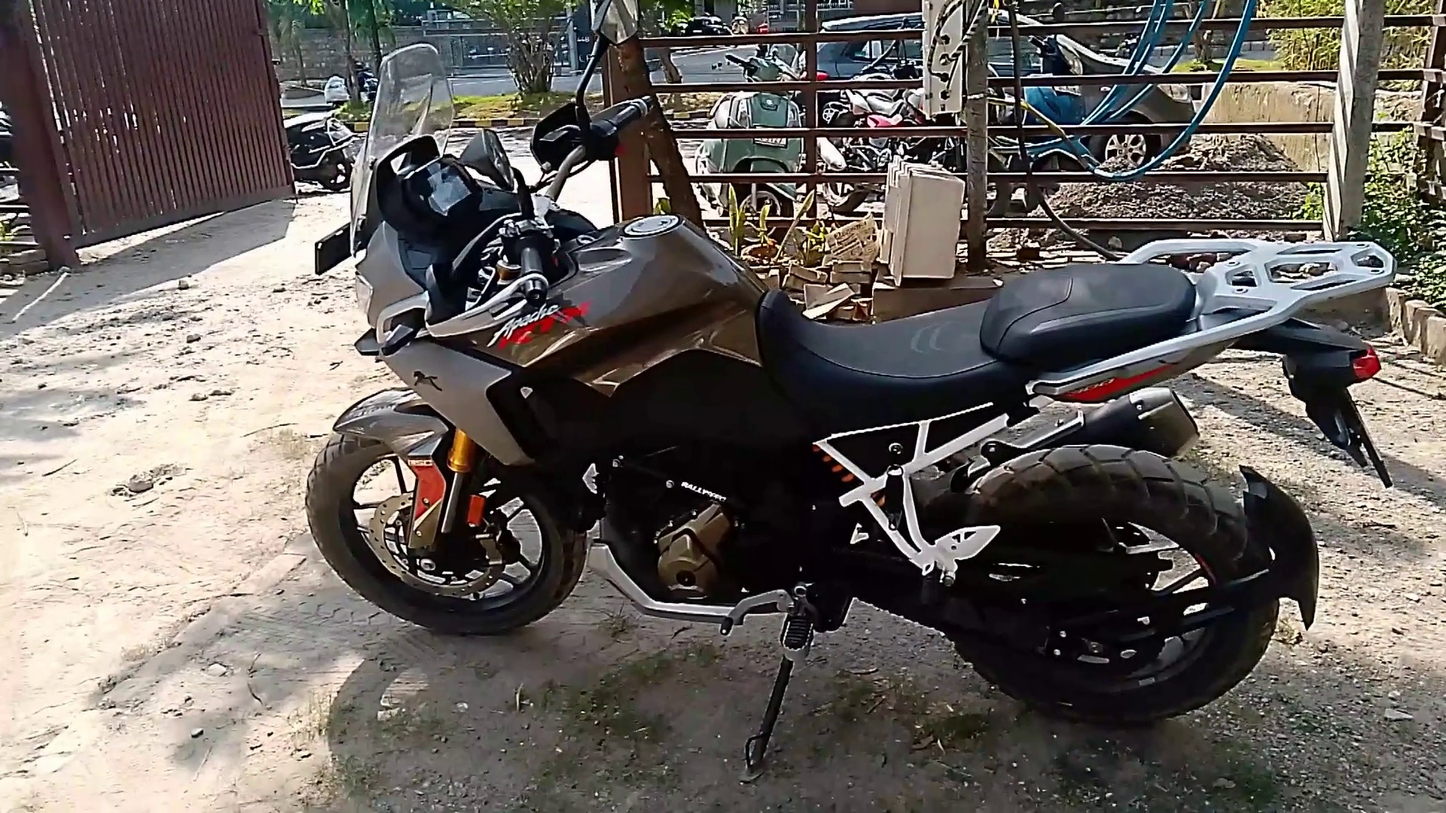engine: (601, 446, 779, 632)
